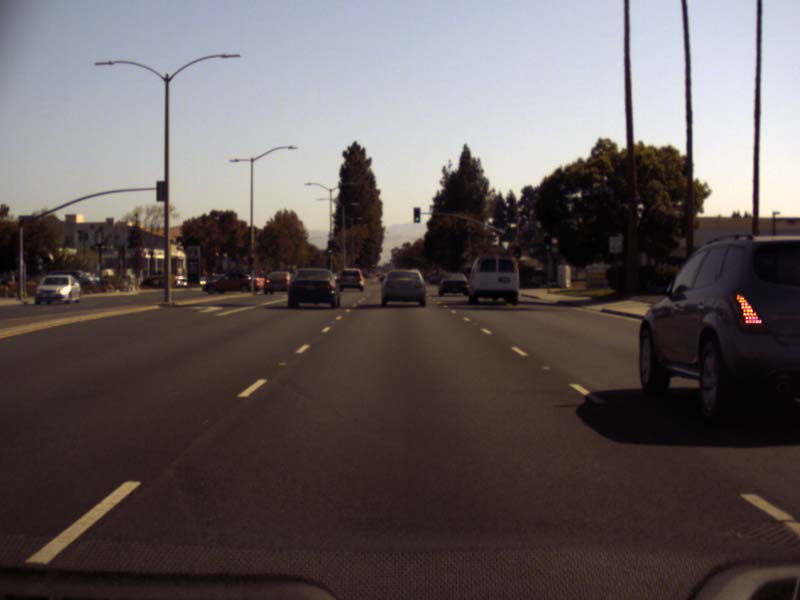Green: (545, 237, 550, 249), (414, 208, 418, 221), (328, 241, 332, 253), (515, 247, 518, 256)
